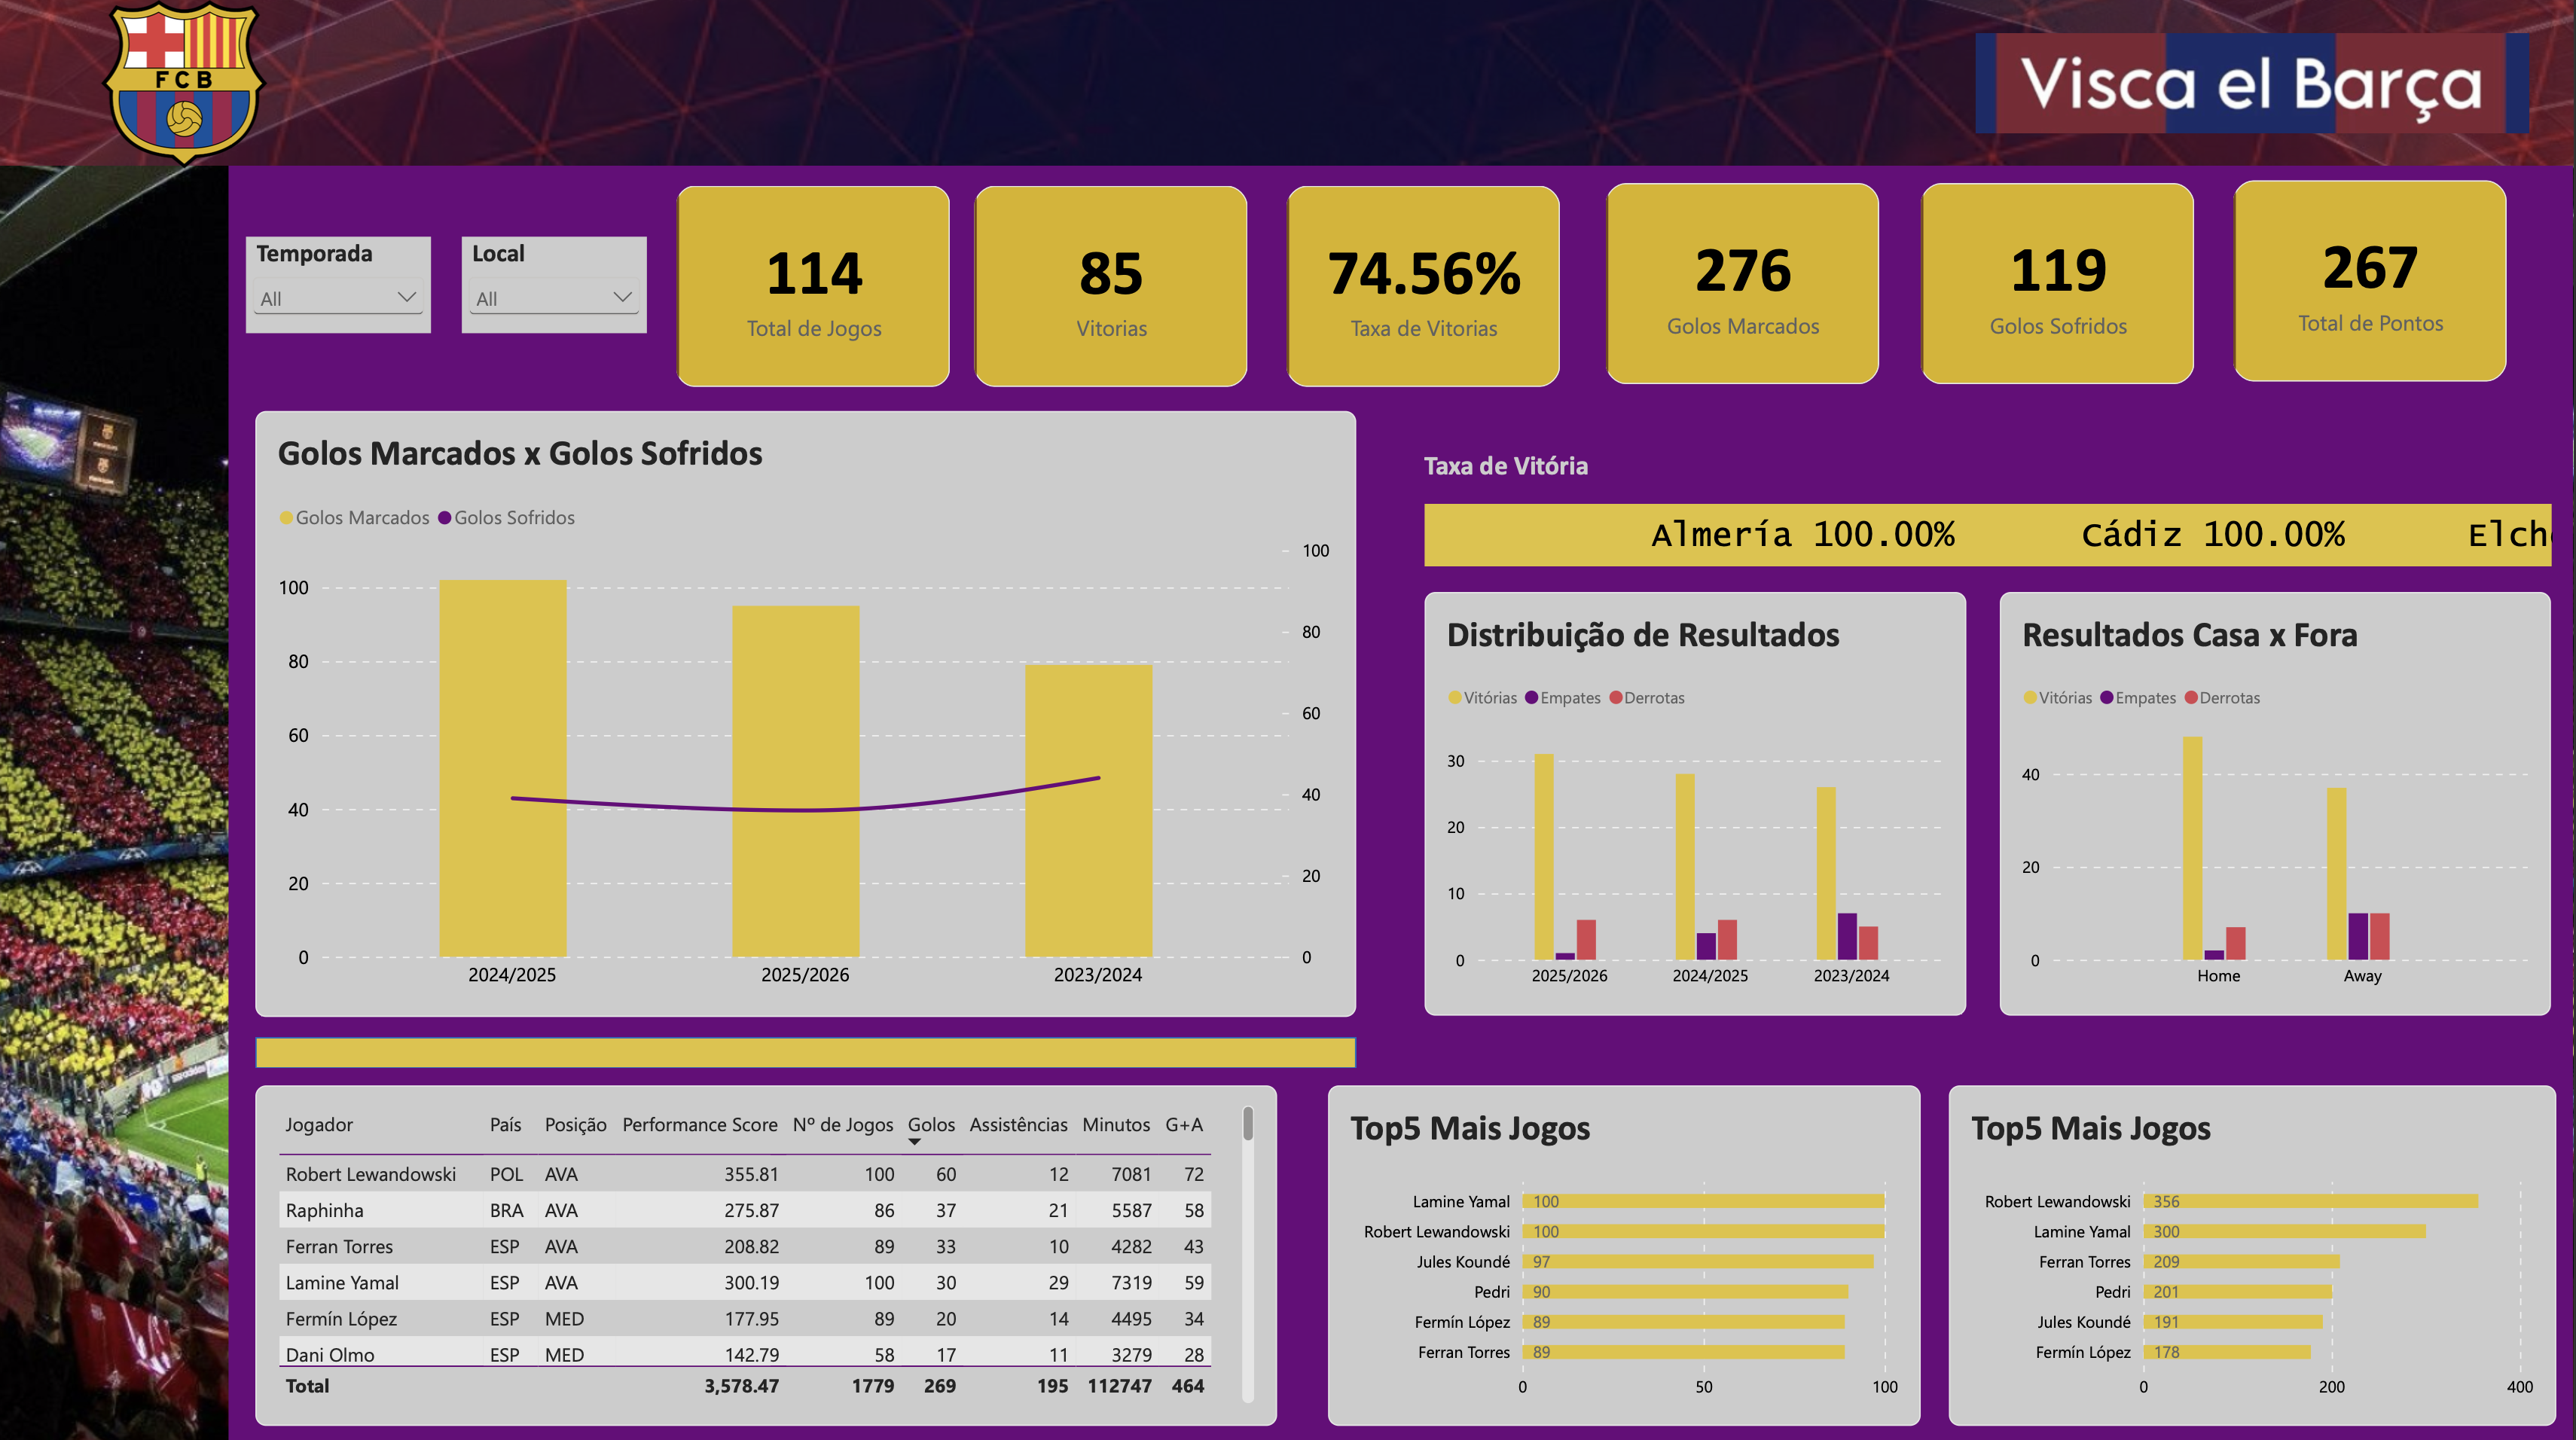

The page's visual inventory and layout, read from the dashboard file:
{"tool":"powerbi","page":{"name":"Page 1","canvas":[1920,1080],"ordinal":0},"visuals":[{"type":"shape","box":[171.4,126.3,1748.6,952.8],"z":0},{"type":"cardVisual","fields":{"Data":["JOGOS.Total_GolosSofridos"]},"box":[1432.8,138.9,204.8,150.5],"z":1000},{"type":"cardVisual","fields":{"Data":["JOGOS.Taxa_Vitorias"]},"box":[960,140.8,204.8,150.5],"z":2000},{"type":"cardVisual","fields":{"Data":["JOGOS.Total_Vitorias"]},"box":[727.2,140.8,204.8,150.5],"z":3000},{"type":"cardVisual","fields":{"Data":["JOGOS.Total_Jogos"]},"box":[505.3,140.8,204.8,150.5],"z":4000},{"type":"cardVisual","fields":{"Data":["JOGOS.Total_GolosMarcados"]},"box":[1198.2,138.9,204.8,150.5],"z":5000},{"type":"cardVisual","fields":{"Data":["JOGOS.Total_Pontos"]},"box":[1665.6,137.1,204.8,150.5],"z":6000},{"type":"lineStackedColumnComboChart","title":"Golos Marcados x Golos Sofridos ","fields":{"Category":["JOGOS.Season"],"Y":["JOGOS.Total_GolosMarcados"],"Y2":["JOGOS.Total_GolosSofridos"]},"box":[191.3,308.6,820.9,451.6],"z":7000},{"type":"image","box":[0,0,1920,126.3],"z":8000},{"type":"image","box":[0,0,276.1,129.9],"z":9000},{"type":"clusteredColumnChart","title":"Distribuição de Resultados ","fields":{"Category":["JOGOS.Season"],"Y":["JOGOS.Total_Vitorias","JOGOS.Total_Empates","JOGOS.Total_Derrrotas"]},"box":[1062.9,443.9,404.2,315.8],"z":10000},{"type":"clusteredColumnChart","title":"Resultados Casa x Fora","fields":{"Category":["JOGOS.Venue"],"Y":["JOGOS.Total_Vitorias","JOGOS.Total_Empates","JOGOS.Total_Derrrotas"]},"box":[1492.3,443.9,411.4,315.8],"z":11000},{"type":"tableEx","fields":{"Values":["JOGADORES.Player","JOGADORES.Nation","JOGADORES.Pos","JOGADORES.Performance_Score","Sum(JOGADORES.MP)","Sum(JOGADORES.Gls)","Sum(JOGADORES.Ast)","Sum(JOGADORES.Min)","Sum(JOGADORES.G+A)"]},"box":[191.3,812,761.5,254.4],"z":12000},{"type":"barChart","title":"Top5 Mais Jogos","fields":{"Category":["JOGADORES.Player"],"Y":["JOGADORES.Total_Jogos_Jogados"]},"box":[990.7,812,442.1,254.4],"z":13000},{"type":"shape","box":[191.3,775.9,821.1,23.5],"z":14000},{"type":"barChart","title":"Top5 Mais Jogos","fields":{"Category":["JOGADORES.Player"],"Y":["JOGADORES.Performance_Score"]},"box":[1454.4,812,452.9,254.4],"z":15000},{"type":"slicer","fields":{"Values":["JOGOS.Season"]},"box":[183.8,178.5,138.3,71.8],"z":16000},{"type":"slicer","fields":{"Values":["JOGOS.Venue"]},"box":[344.8,178.5,138.3,71.8],"z":17000},{"type":"textbox","box":[191.3,775.9,617.1,23.5],"z":18000},{"type":"ScrollingTextVisual1448795304508","title":"Taxa de Vitória","fields":{"Category":["JOGOS.Opponent"],"Measure Absolute":["JOGOS.Taxa_Vitorias"]},"box":[1062.7,337.5,840.5,88],"z":19000},{"type":"textbox","box":[253.6,0,1318.4,125.8],"z":20000},{"type":"image","box":[1473.5,23.1,412.9,83.8],"z":20001}]}

Visuals, with their boxes in screenshot pixels (x1, y1, x2, y2), scaled from the page's 1920x1080 canvas onto the 2576x1440 screenshot:
shape: bbox=[230, 169, 2575, 1438]
cardVisual - JOGOS.Total_GolosSofridos: bbox=[1922, 185, 2197, 386]
cardVisual - JOGOS.Taxa_Vitorias: bbox=[1288, 188, 1563, 389]
cardVisual - JOGOS.Total_Vitorias: bbox=[975, 188, 1250, 389]
cardVisual - JOGOS.Total_Jogos: bbox=[678, 188, 953, 389]
cardVisual - JOGOS.Total_GolosMarcados: bbox=[1607, 185, 1882, 386]
cardVisual - JOGOS.Total_Pontos: bbox=[2235, 183, 2510, 383]
"Golos Marcados x Golos Sofridos " lineStackedColumnComboChart: bbox=[257, 411, 1358, 1014]
image: bbox=[0, 0, 2575, 169]
image: bbox=[0, 0, 371, 173]
"Distribuição de Resultados " clusteredColumnChart: bbox=[1426, 592, 1968, 1013]
"Resultados Casa x Fora" clusteredColumnChart: bbox=[2002, 592, 2554, 1013]
tableEx - JOGADORES.Player x JOGADORES.Nation: bbox=[257, 1083, 1278, 1422]
"Top5 Mais Jogos" barChart: bbox=[1329, 1083, 1922, 1422]
shape: bbox=[257, 1035, 1358, 1066]
"Top5 Mais Jogos" barChart: bbox=[1952, 1083, 2559, 1422]
slicer - JOGOS.Season: bbox=[246, 238, 432, 334]
slicer - JOGOS.Venue: bbox=[462, 238, 649, 334]
textbox: bbox=[257, 1035, 1085, 1066]
"Taxa de Vitória" ScrollingTextVisual1448795304508: bbox=[1426, 450, 2553, 567]
textbox: bbox=[340, 0, 2109, 168]
image: bbox=[1977, 31, 2531, 142]
